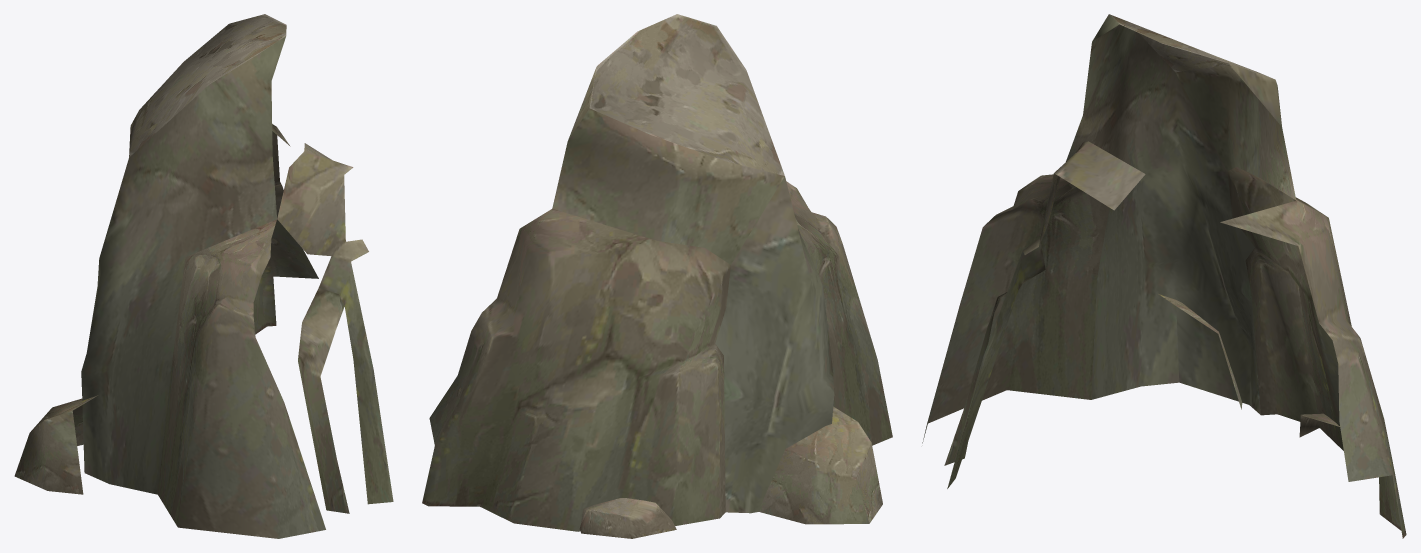
File: shitpi_015.FBX
3 views of the same model, side by side, from view 1: azimuth 30°, elevation 25°; view 2: azimuth 150°, elevation 25°; view 3: azimuth 270°, elevation 25° (orthographic). The views are drawn at different scales.
Visible parts, largest first — view 1: shitpi_015; view 2: shitpi_015; view 3: shitpi_015.
Boxes of the visible parts, x1,y1,x2,y2 form: shitpi_015: [14, 14, 393, 538]; shitpi_015: [422, 14, 892, 538]; shitpi_015: [922, 14, 1406, 538].
Size of the model in its own units: 2.3 by 2.48 by 2.42.
